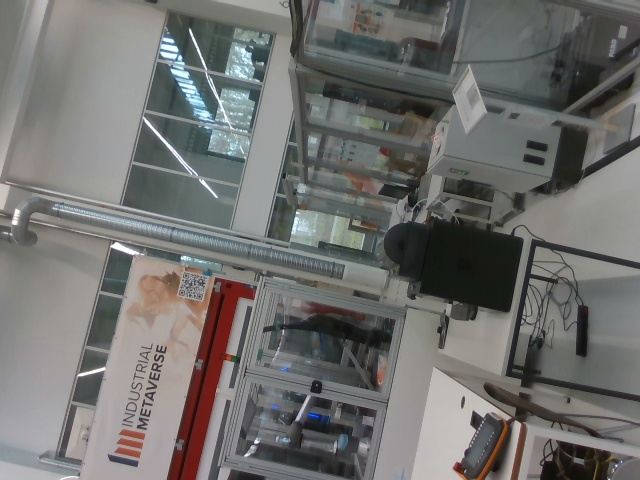Computer: (376, 222, 524, 313)
